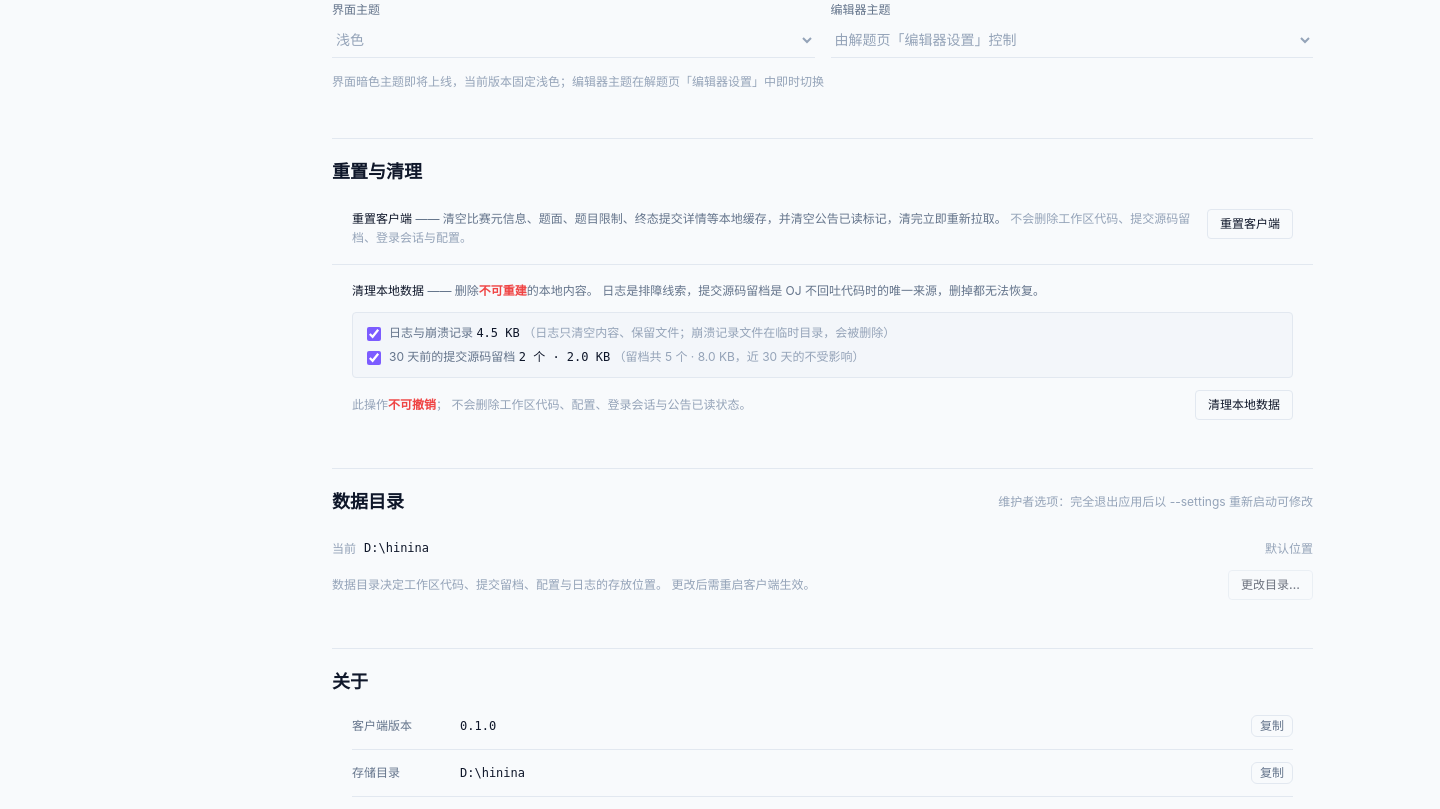
Scenario: SettingsView 清理本地数据（不可逆，反馈必须如实） › 勾了日志但后端没清掉（logCleared=false）：warn 文案如实说明
(page scrolled)
Click the button "清理本地数据". click: click(1244, 405)
box: [1195,390,1293,420]
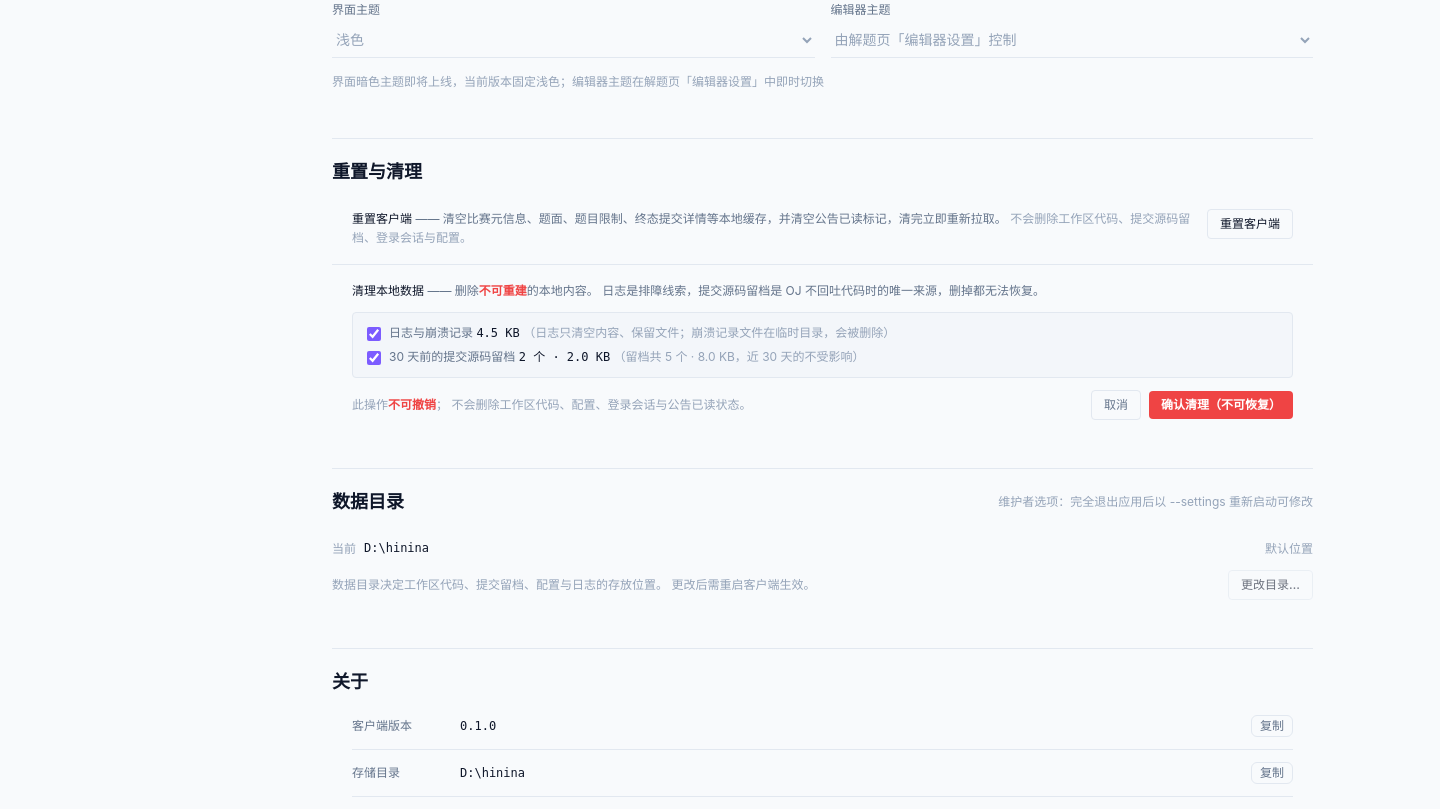
Expected: the button "确认清理（不可恢复）" is shown
Click the button "确认清理（不可恢复）". click: click(1221, 405)
box: [1149,391,1293,419]
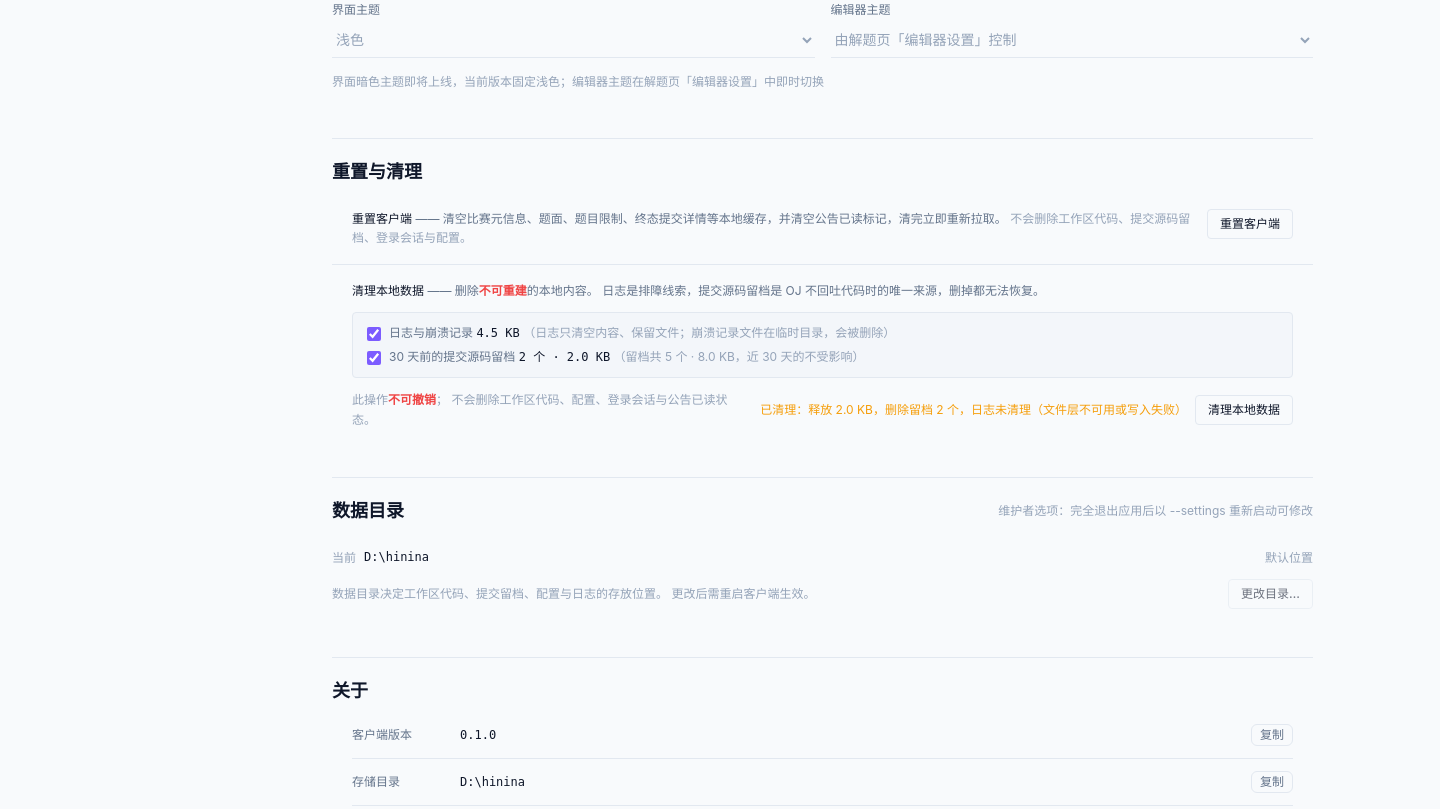
Expected: the text "日志未清理" is shown, [760,402,1187,416]
